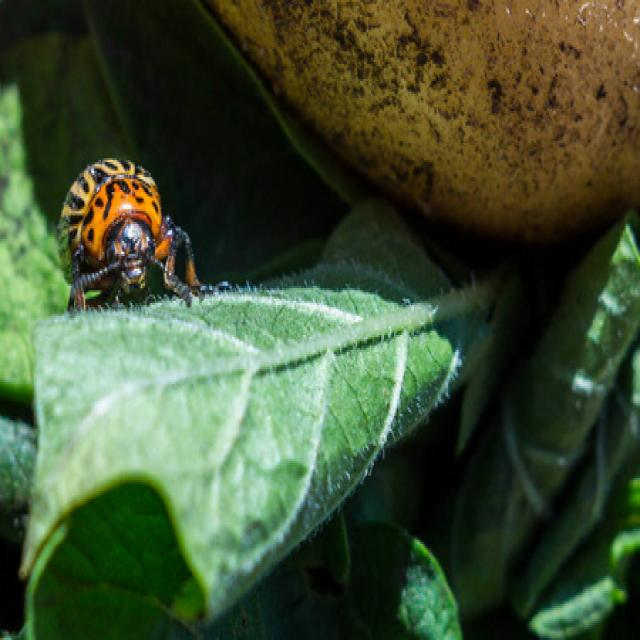ShuCaiHuaBanChong-Grown-: (53, 143, 190, 302)
